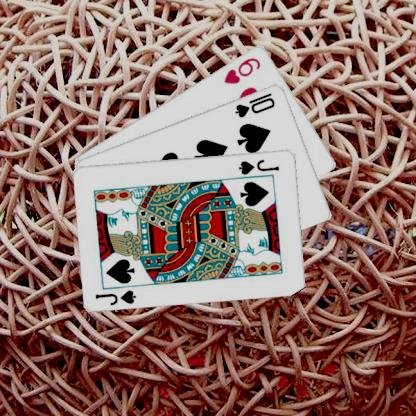10S: (232, 89, 277, 119)
6H: (221, 54, 262, 85)
JS: (236, 156, 280, 176), (93, 287, 137, 306)
